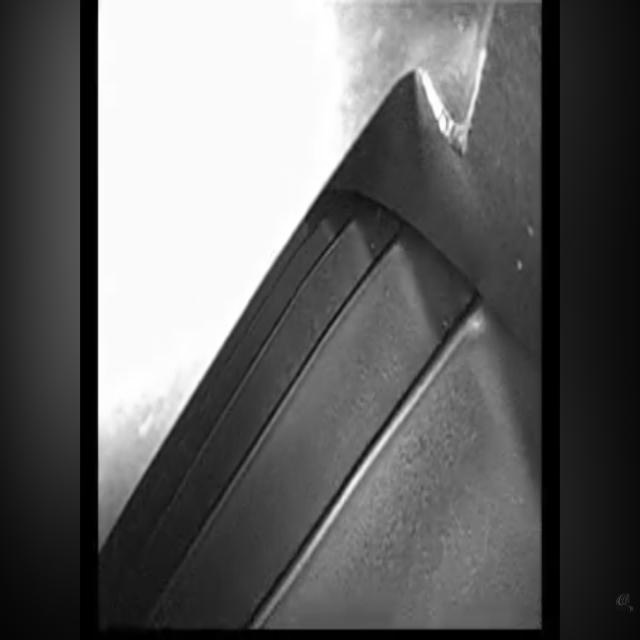turbine_blade: (144, 231, 477, 625), (268, 310, 539, 626)
